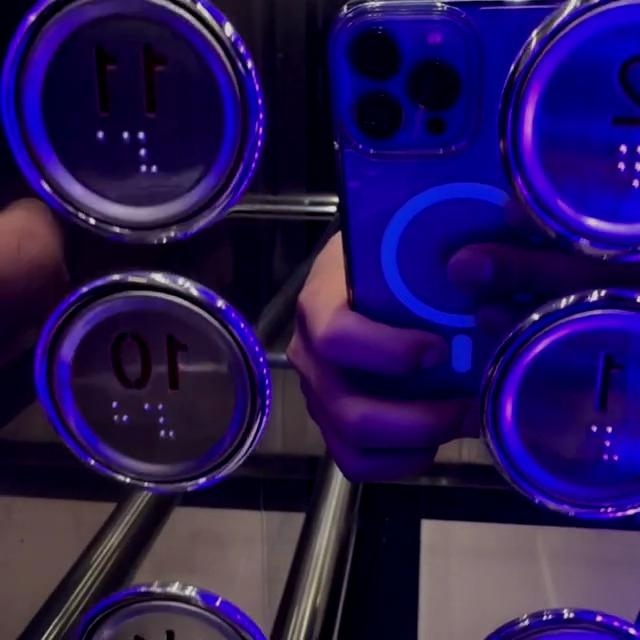button: (28, 6, 253, 236), (66, 292, 244, 469), (514, 292, 640, 511)
